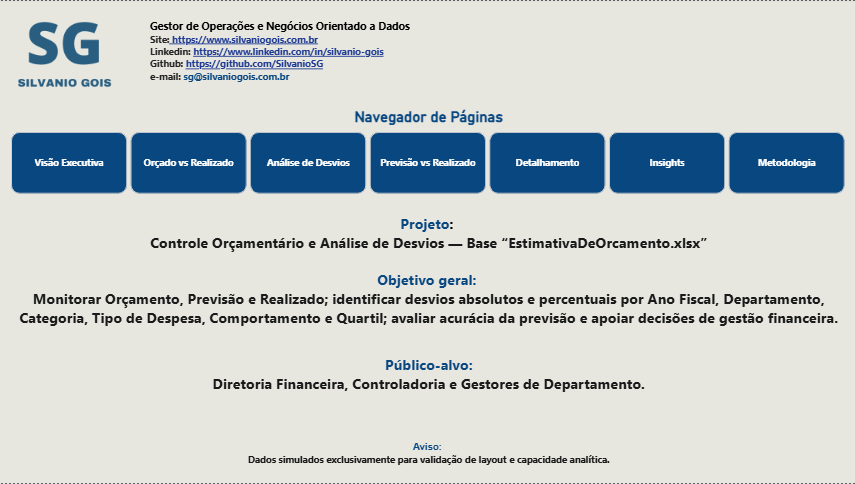

The dashboard page shown, as its layout file describes it:
{"tool":"powerbi","page":{"name":"Inicio","canvas":[1920,1080],"ordinal":0},"visuals":[{"type":"image","box":[24,0,240,216],"z":0},{"type":"textbox","box":[336,0,720,216],"z":1000},{"type":"textbox","box":[24,456,1872,120],"z":2000},{"type":"textbox","box":[24,600,1872,144],"z":3000},{"type":"pageNavigator","title":" Navegador de Páginas","box":[24,240,1872,192],"z":4000},{"type":"textbox","box":[24,984,1872,72],"z":5000},{"type":"textbox","box":[24,792,1872,120],"z":6000}]}

Visuals, with their boxes in screenshot pixels (x1, y1, x2, y2), scaled from the page's 1920x1080 canvas onto the 855x484 screenshot:
image: l=11, t=0, r=118, b=97
textbox: l=150, t=0, r=470, b=97
textbox: l=11, t=204, r=844, b=258
textbox: l=11, t=269, r=844, b=333
" Navegador de Páginas" pageNavigator: l=11, t=108, r=844, b=194
textbox: l=11, t=441, r=844, b=473
textbox: l=11, t=355, r=844, b=409
